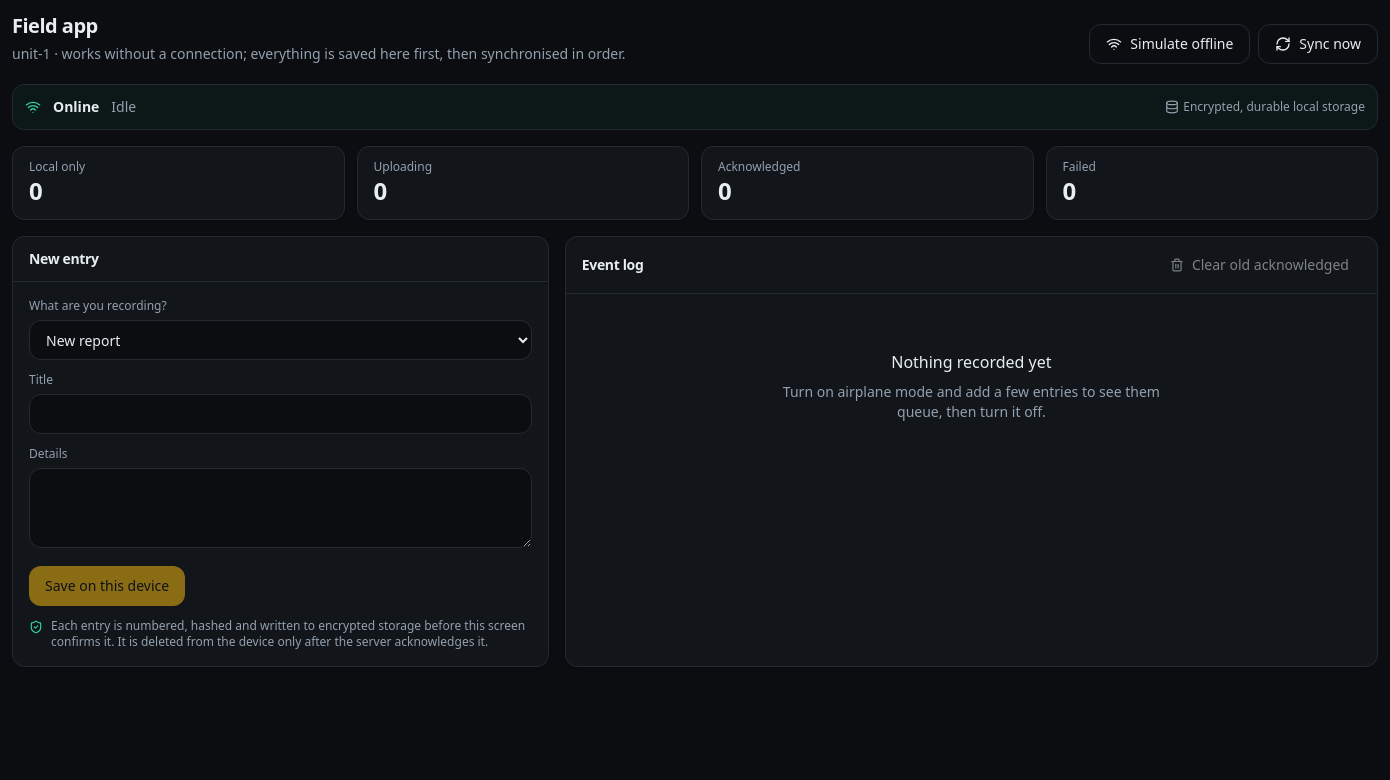
Scenario: field app: the offline-first user journey › saves while offline, shows Local only, then syncs to Acknowledged when back online
This screenshot has width=1390, height=780.
Click the switch labelled "Simulate offline" at (1170, 44), box [1089,24,1250,64]
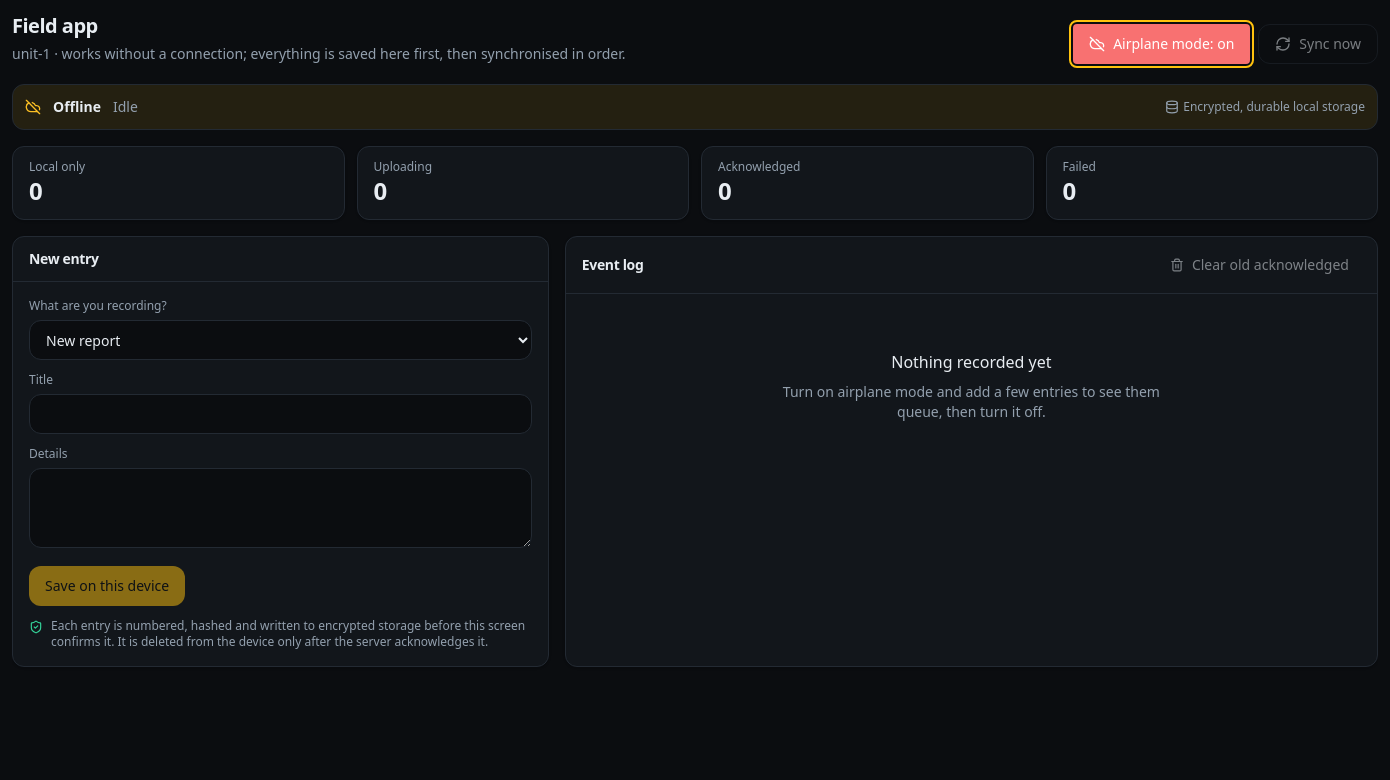
Expected: the message shows "Offline", [53,97,101,116]
Type "Traffic stop" into the field labelled "Title" at (280, 414), box [29,394,532,434]
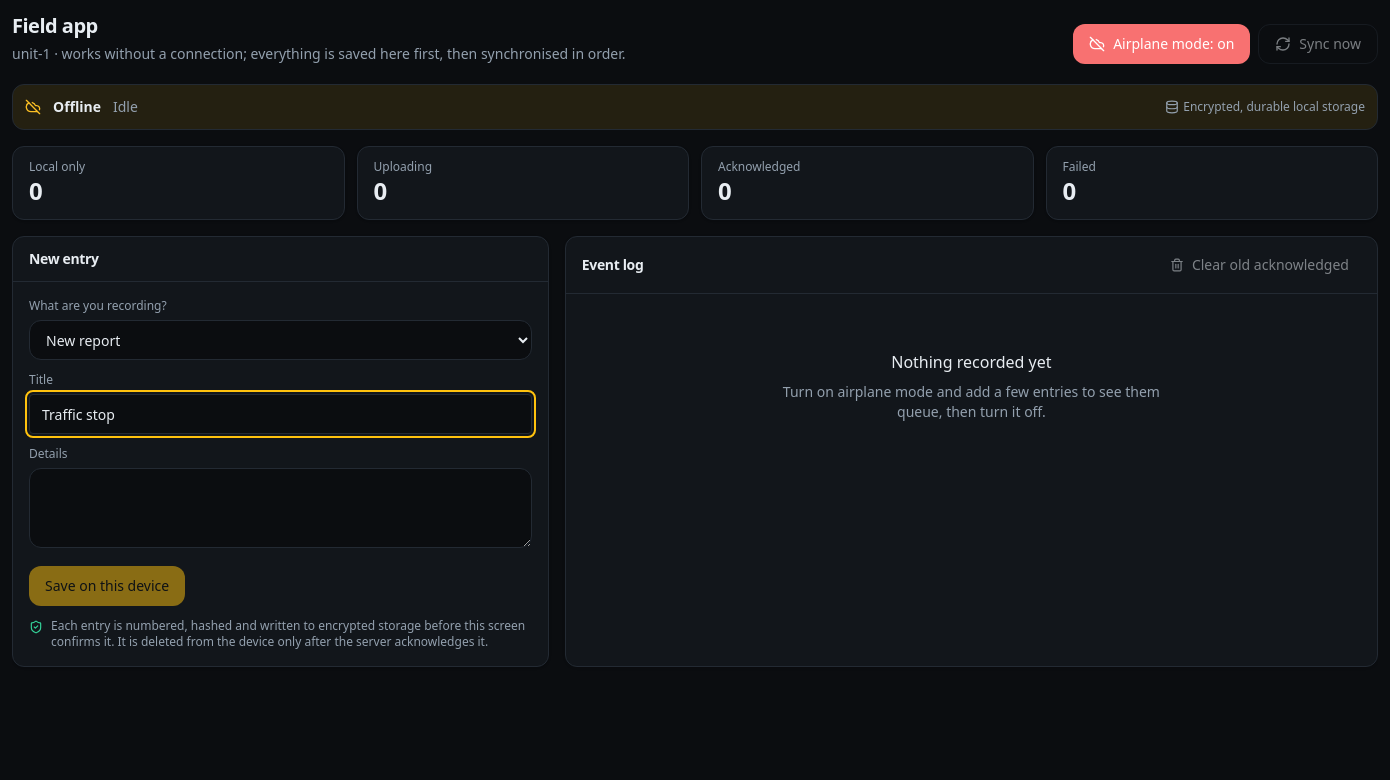
Type "Vehicle 12, no injuries" into the text box labelled "Details" at (280, 508), box [29,468,532,548]
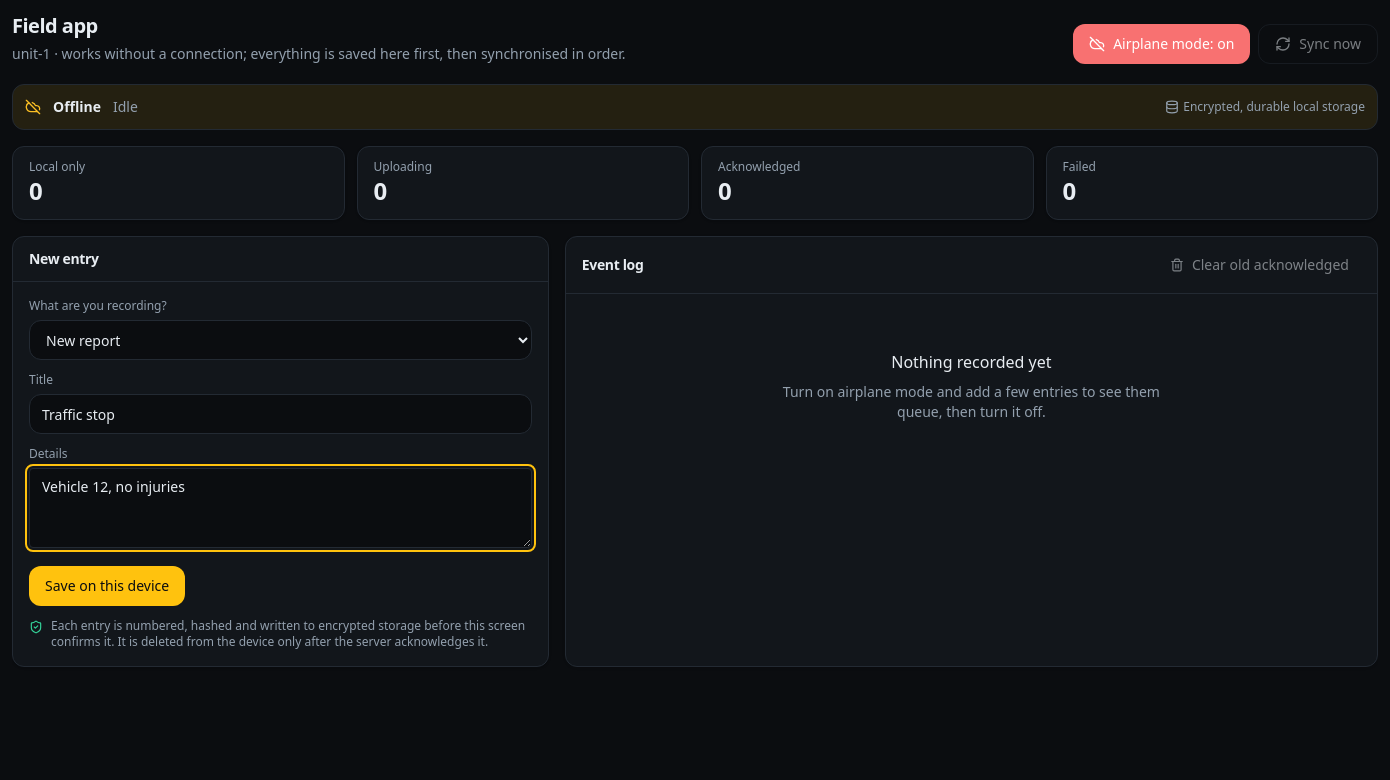
Click the button "Save on this device" at (107, 586), box [29,566,185,606]
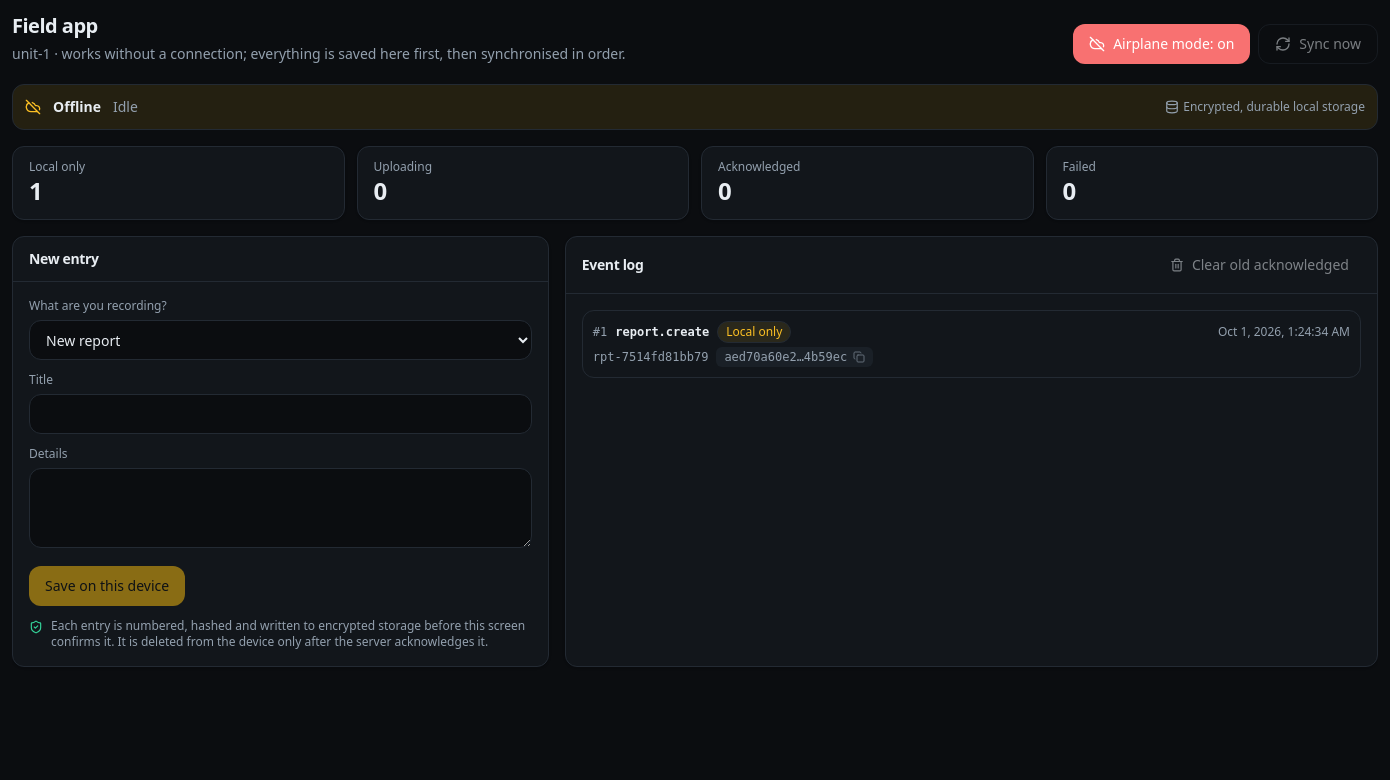
Expected: the text "Local only" next to "report.create" is shown, [726,323,782,340]
Click the switch labelled "Airplane mode: on" at (1162, 44), box [1073,24,1250,64]
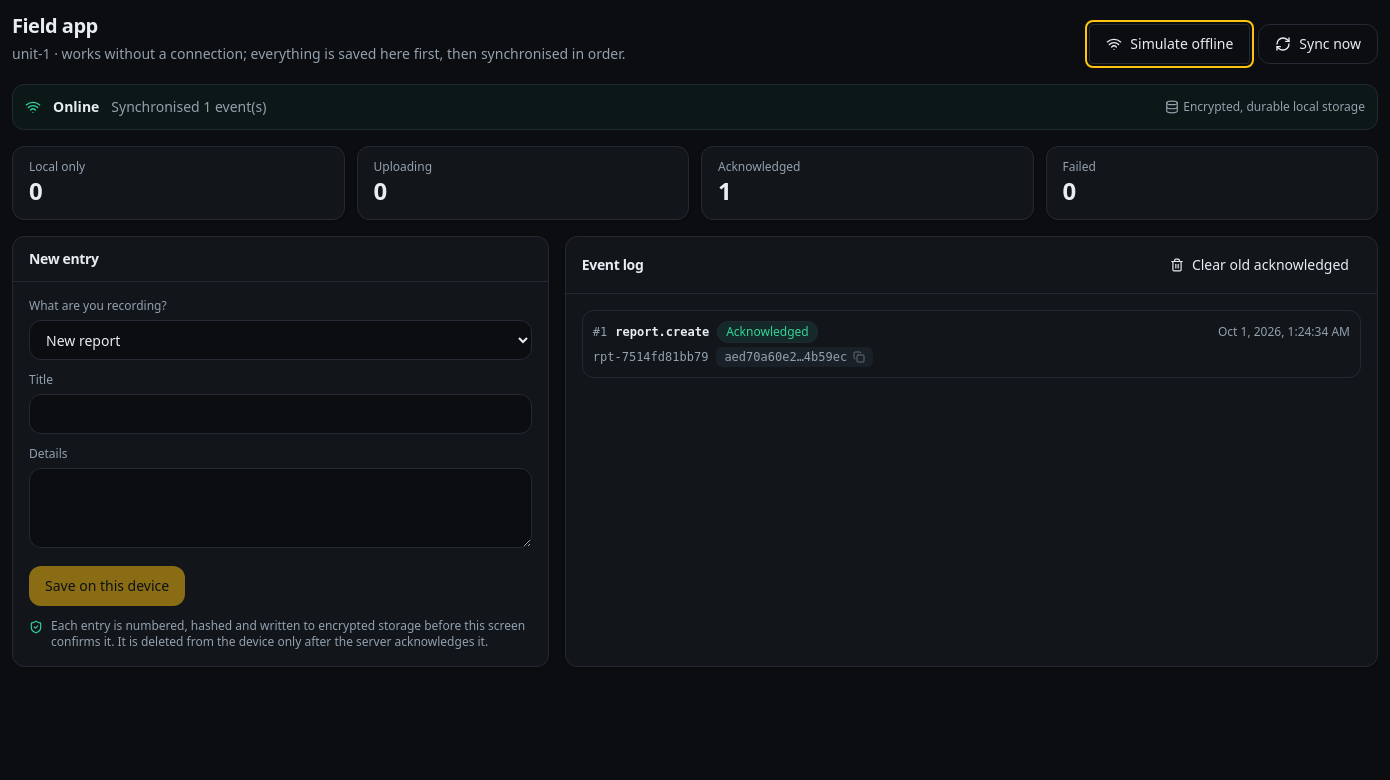
Expected: the text "Acknowledged" next to "report.create" is shown, [726,323,809,340]
